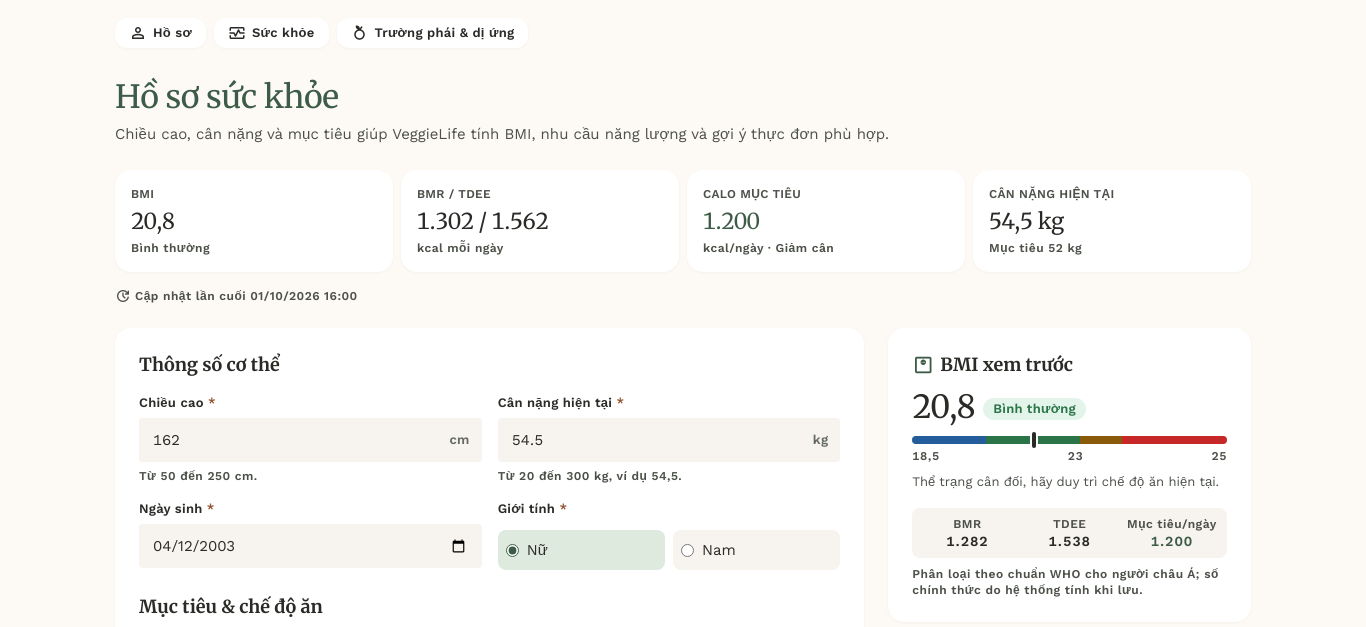
Test case: HealthProfile (SCR-08) › Thành viên › lưu hợp lệ gửi PUT với số đã đổi sang number và cập nhật chỉ số
Replace the text in the field labelled "Cân nặng hiện tại *" with "53,8": [669, 440] box [498, 418, 840, 462]
(page scrolled)
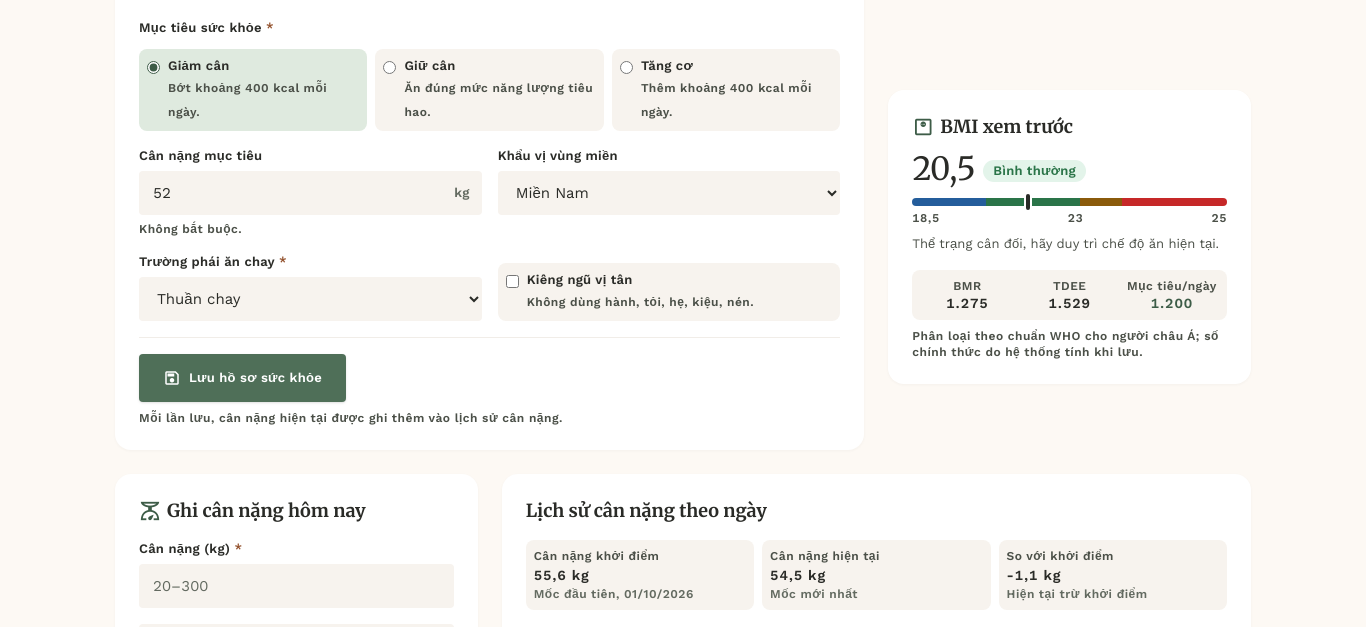
Click the button "Lưu hồ sơ sức khỏe": [242, 378] box [139, 354, 346, 402]
(page scrolled)
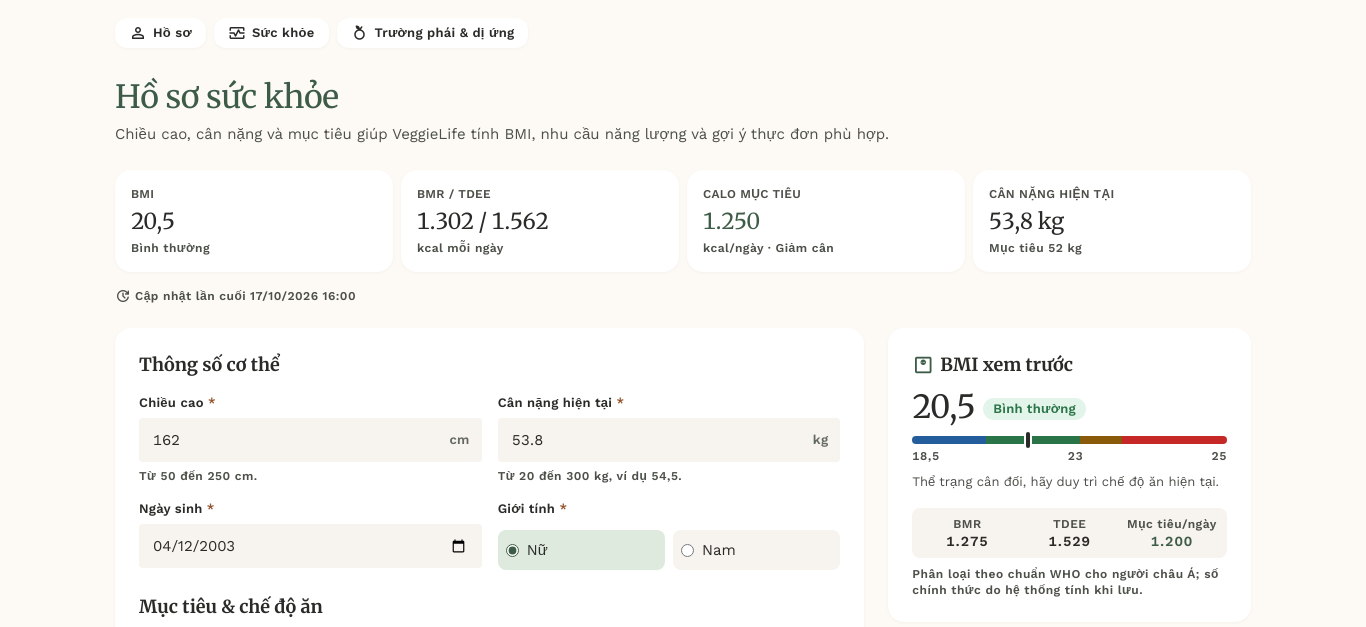
expect the text "1.250" is shown: met, box [703, 207, 759, 235]
